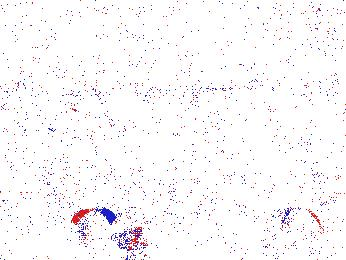flame jellyfish: (71, 207, 150, 253), (41, 93, 99, 151), (264, 207, 324, 256)
